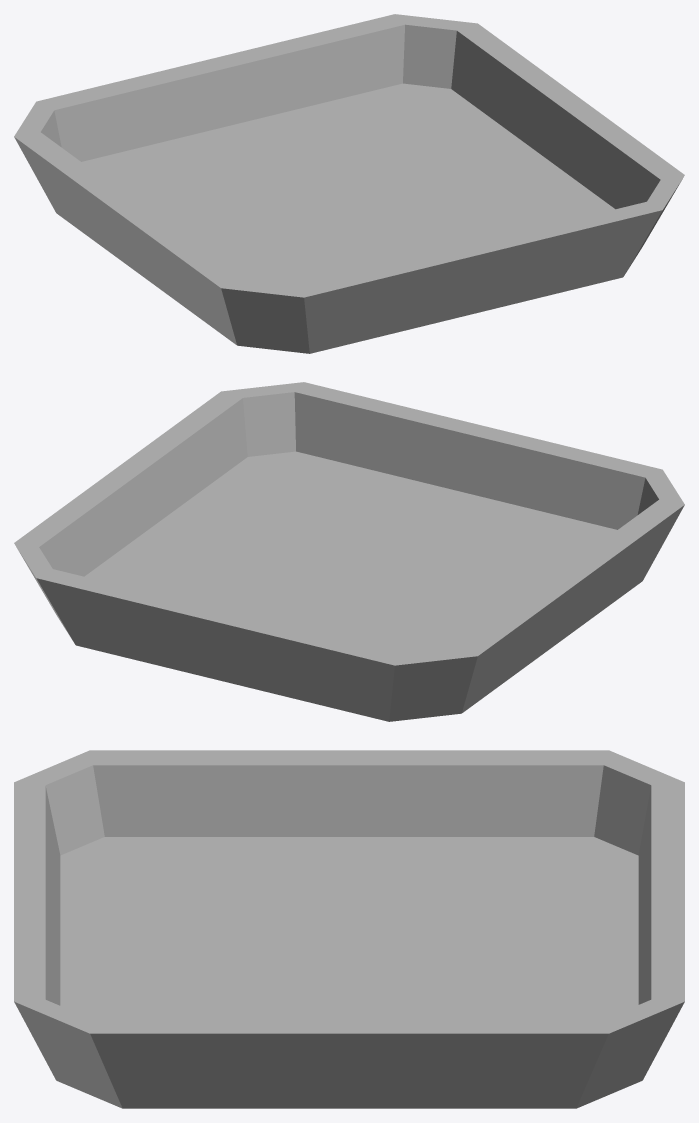
File: safatas.fbx
3 views of the same model, one above another, from view 1: azimuth 30°, elevation 25°; view 2: azimuth 150°, elevation 25°; view 3: azimuth 270°, elevation 25° (orthographic). The views are drawn at different scales.
Visible parts, largest first — view 1: scales_balance_c.001; view 2: scales_balance_c.001; view 3: scales_balance_c.001.
Part boxes in pixels (bbox=[...]): scales_balance_c.001: bbox=[14, 14, 684, 353]; scales_balance_c.001: bbox=[14, 382, 684, 721]; scales_balance_c.001: bbox=[14, 750, 684, 1108].
Bounding box in the file's own units: 19.93 × 3.04 × 19.93.
